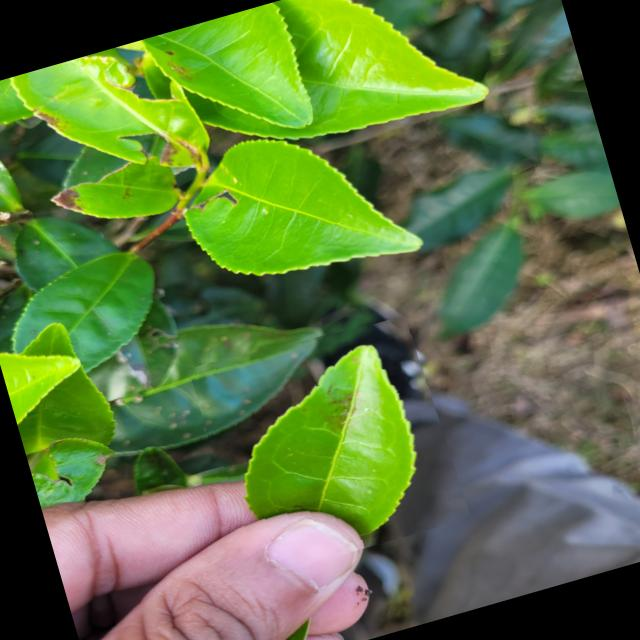Category B(2-4 days): (188, 302, 470, 580)
